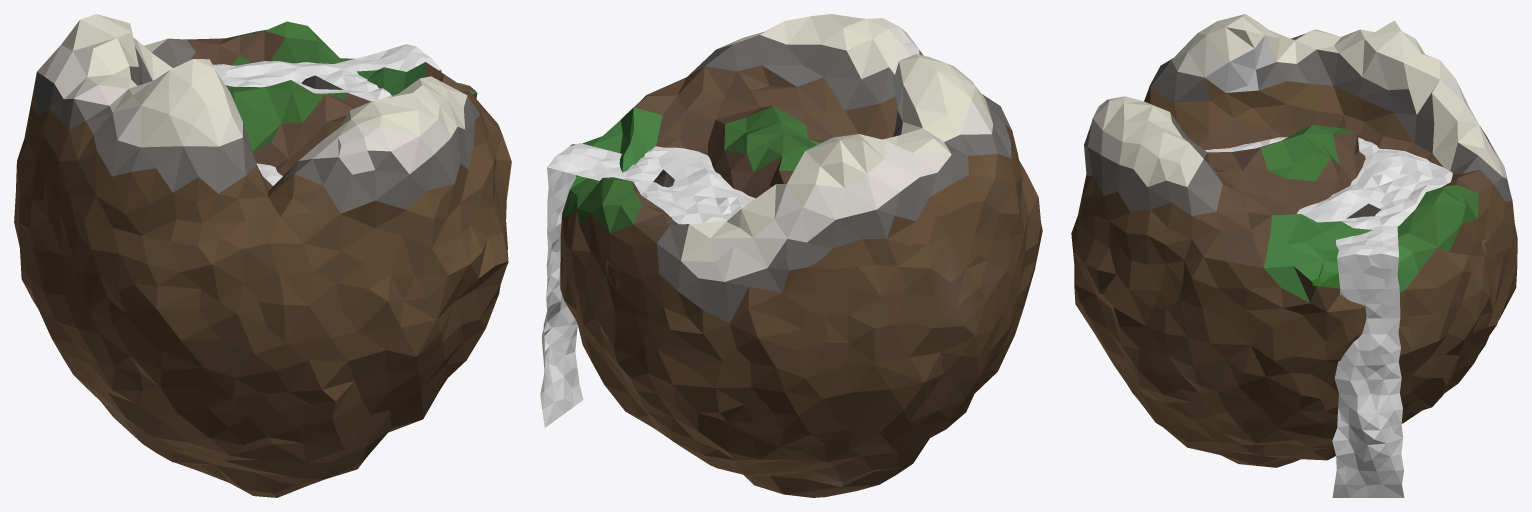
The model's file is Island.fbx.
3 renders of one model, left to right at view 1: azimuth 30°, elevation 25°; view 2: azimuth 150°, elevation 25°; view 3: azimuth 270°, elevation 25°, orthographic. The views are drawn at different scales.
Visible parts, largest first — view 1: Icosphere, Plane; view 2: Icosphere, Plane; view 3: Icosphere, Plane.
Boxes of the visible parts, box(x1,y1,x2,y2) form: Icosphere: box(14, 14, 511, 497); Plane: box(212, 44, 441, 185); Icosphere: box(560, 14, 1042, 497); Plane: box(540, 143, 755, 427); Icosphere: box(1071, 14, 1517, 467); Plane: box(1205, 137, 1452, 497).
Bounding box in the file's own units: 2079 × 2061 × 2050.
